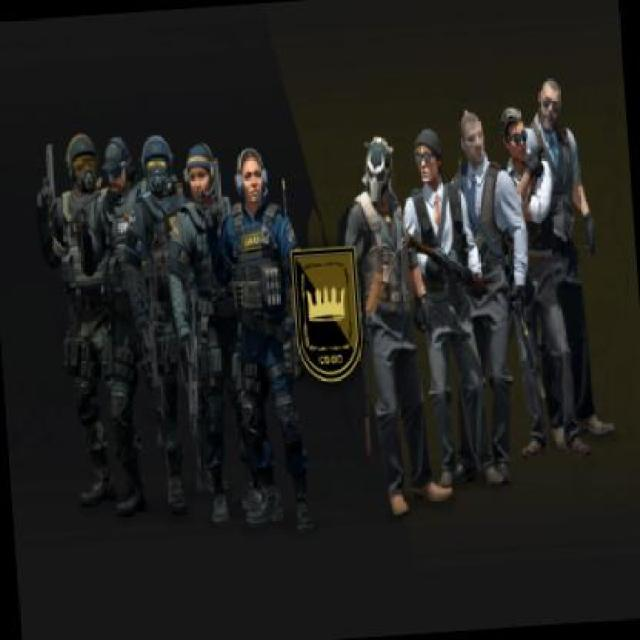MIL_Pax: (201, 147, 317, 531), (68, 137, 180, 520), (336, 136, 438, 522), (397, 126, 500, 497), (114, 134, 209, 523), (449, 112, 546, 486), (163, 140, 254, 525), (31, 132, 123, 510), (497, 104, 577, 493), (529, 74, 609, 446)
